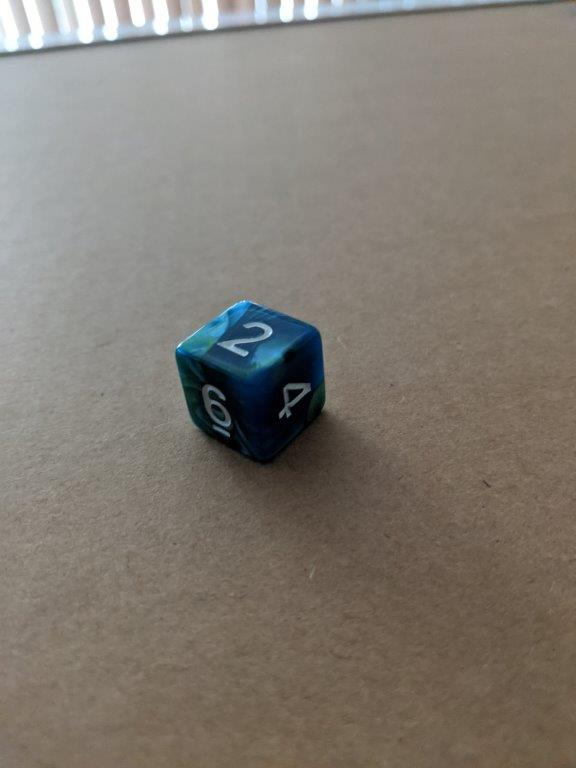d6-2: (174, 298, 330, 462)
